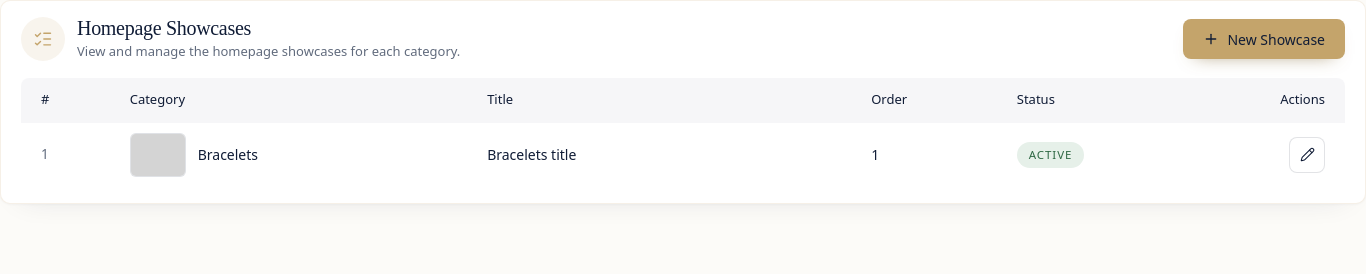
Test: Status pill — ACTIVE ⇄ INACTIVE toggle › restores the previous status and shows an error when saving fails
Click the button with test id "showcase-status-toggle" at (1051, 155), box [1017,142,1084,168]
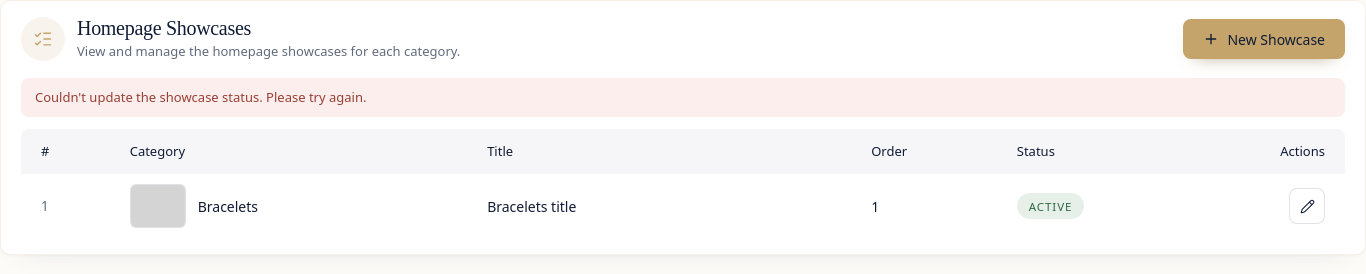
Expected: the button with test id "showcase-status-toggle" reads "Active", [1017,193,1084,219]
Now the message reads "Couldn't update the showcase status. Please try again.", box [35,88,366,106]
